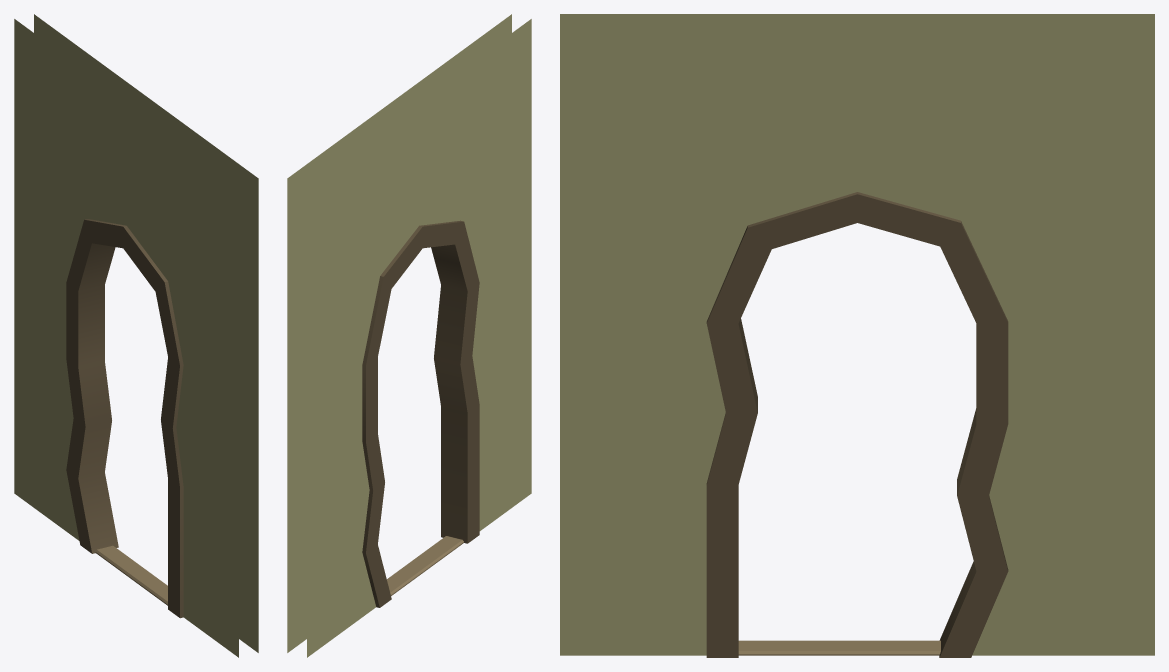
Rendered from StrangeDoorway_SM.fbx.
The picture shows the model from 3 angles, left to right: view 1: azimuth 30°, elevation 25°; view 2: azimuth 150°, elevation 25°; view 3: azimuth 270°, elevation 25°; orthographic projection. The views are drawn at different scales.
Visible parts, largest first — view 1: StrangeDoorway; view 2: StrangeDoorway; view 3: StrangeDoorway.
Part boxes in pixels (x1=…): StrangeDoorway: x1=14, y1=14, x2=258, y2=657; StrangeDoorway: x1=287, y1=14, x2=531, y2=657; StrangeDoorway: x1=560, y1=14, x2=1154, y2=657.
Size of the model in its own units: 20.51 by 350 by 300.
